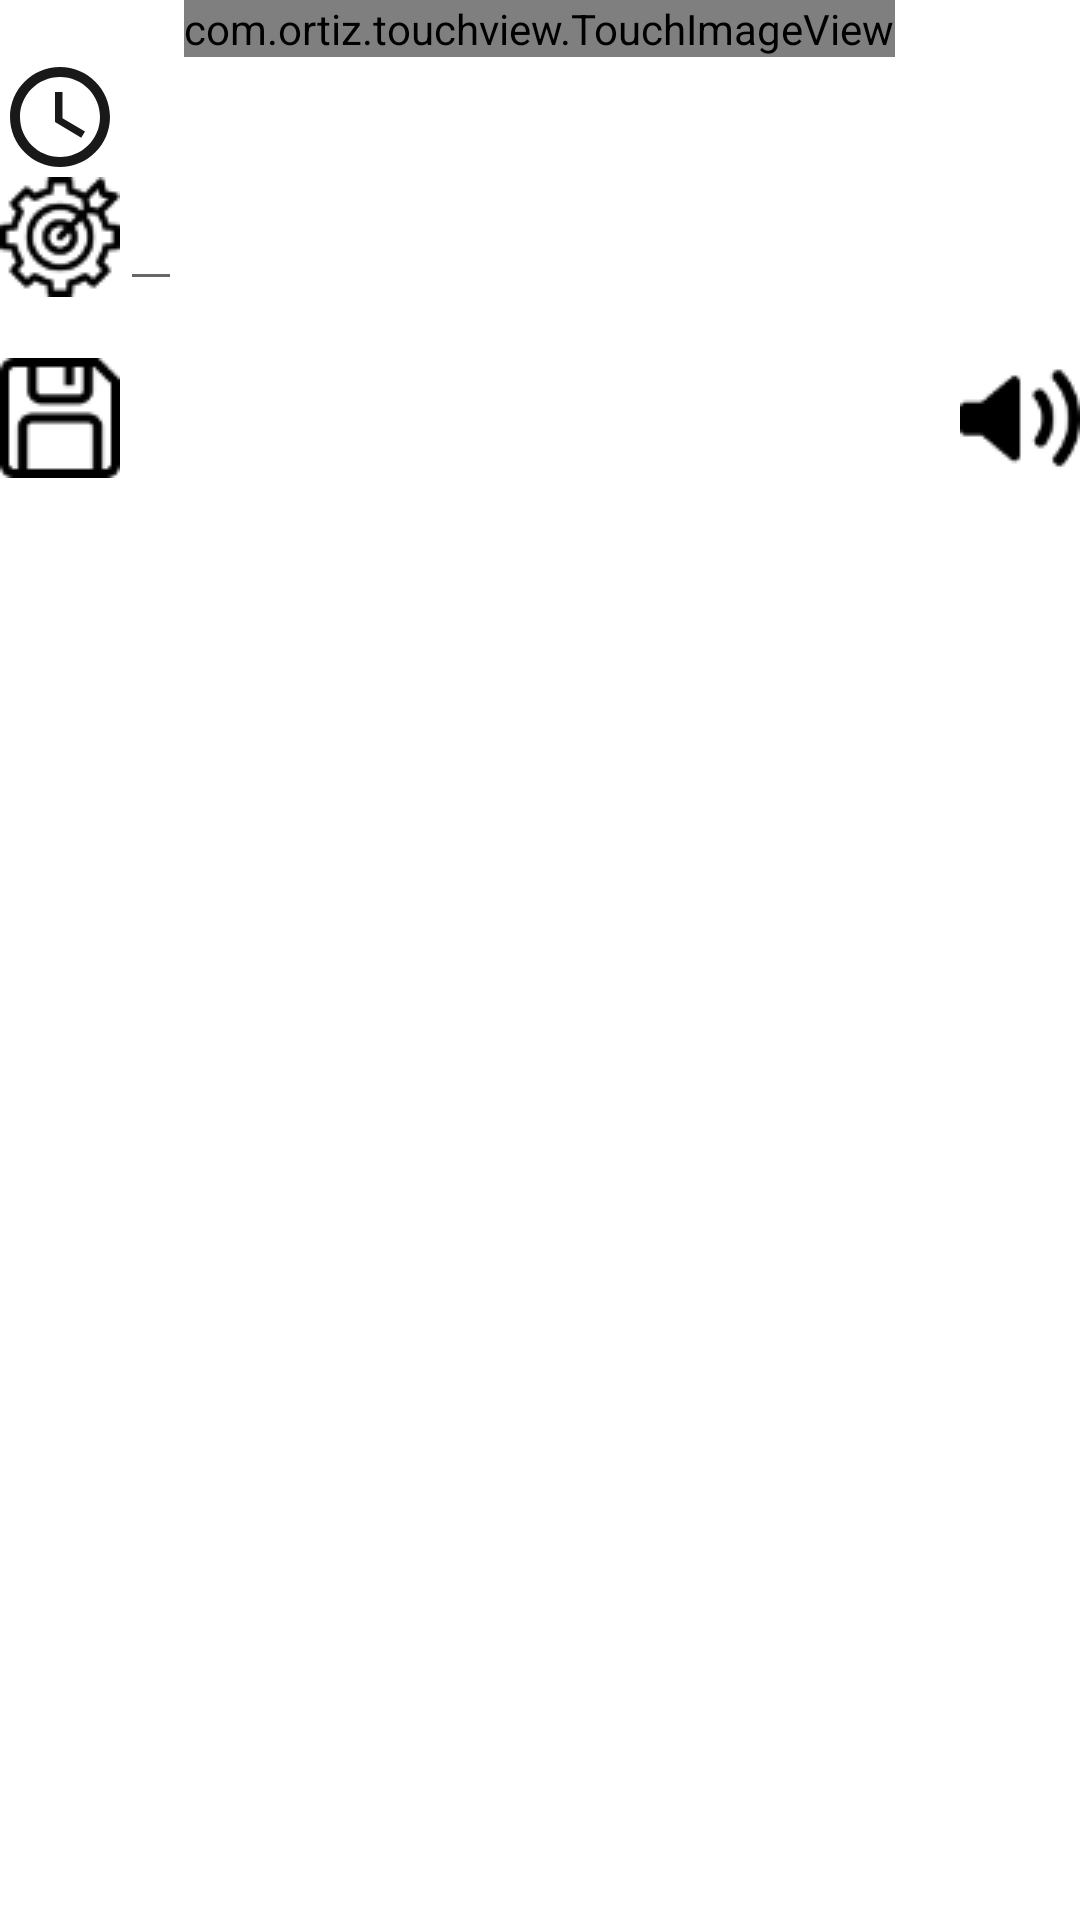

Icons on this 1080 × 1920 Android screen, each with the point to tap as (x,y):
access time: (60,117)
save: (60,418)
speaker: (1020,418)
target: (60,237)
